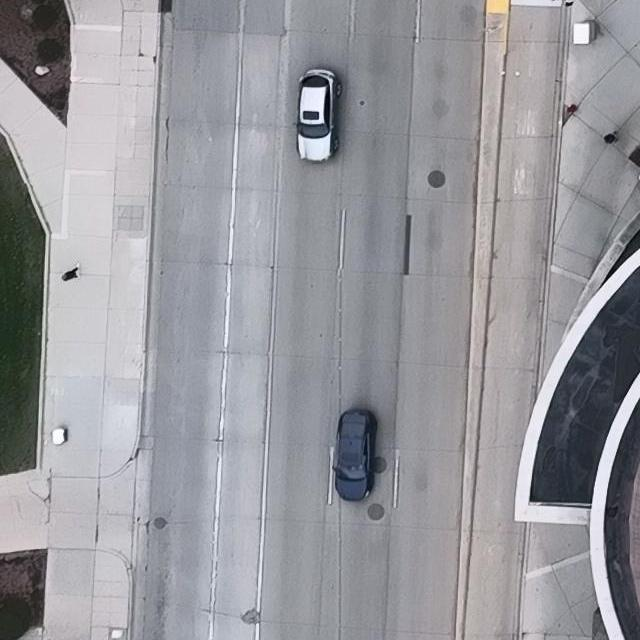car: (293, 68, 342, 163), (332, 407, 377, 500)
